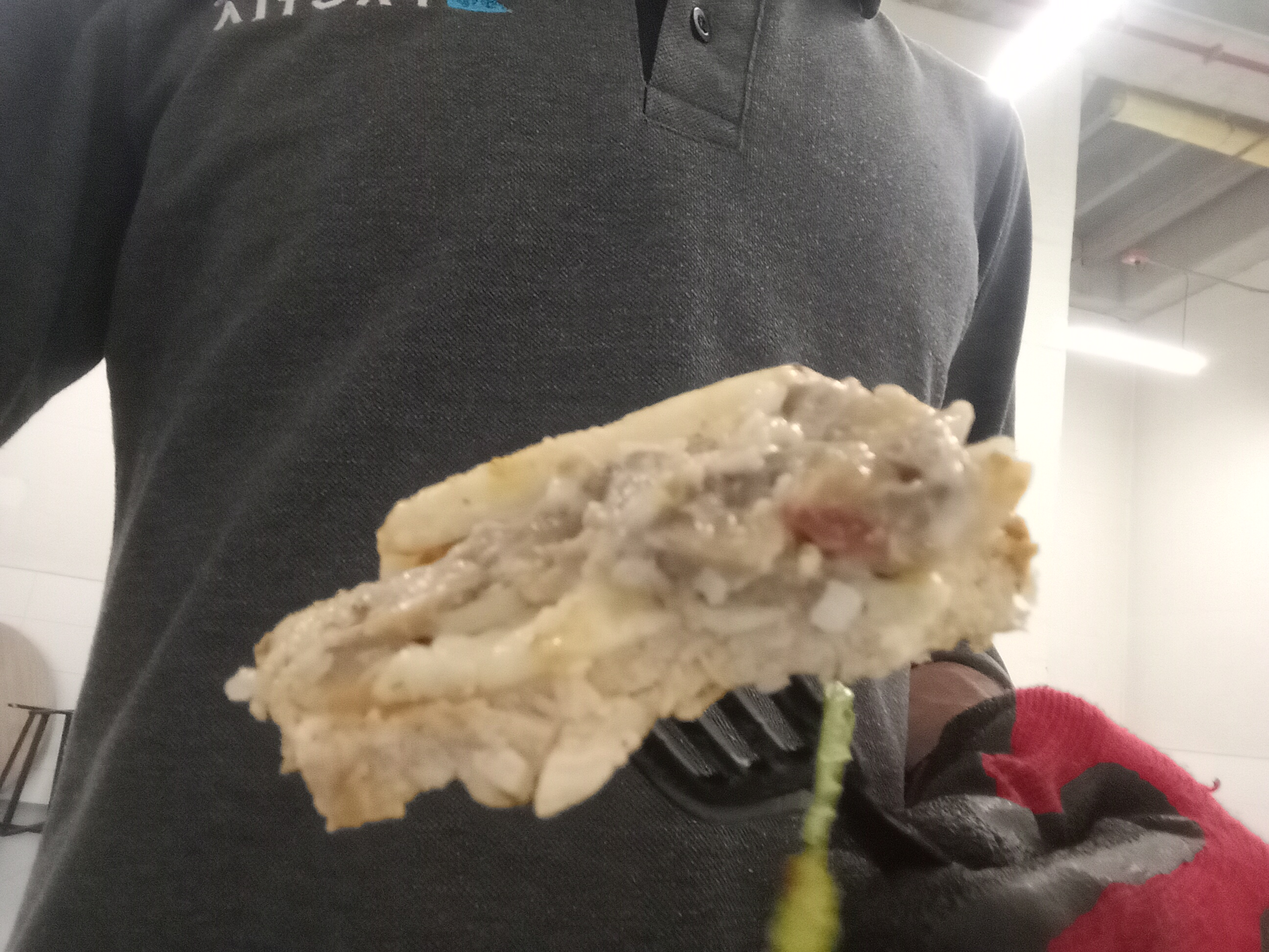Organico: (226, 364, 1043, 835)
